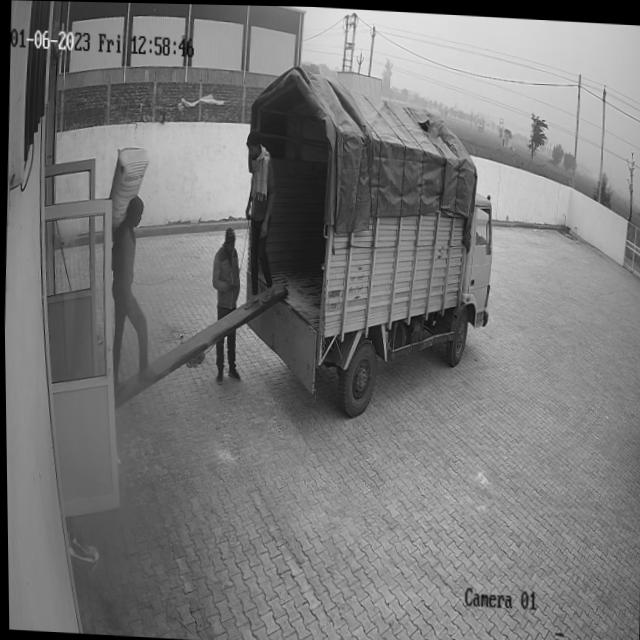sack: (104, 144, 149, 230)
